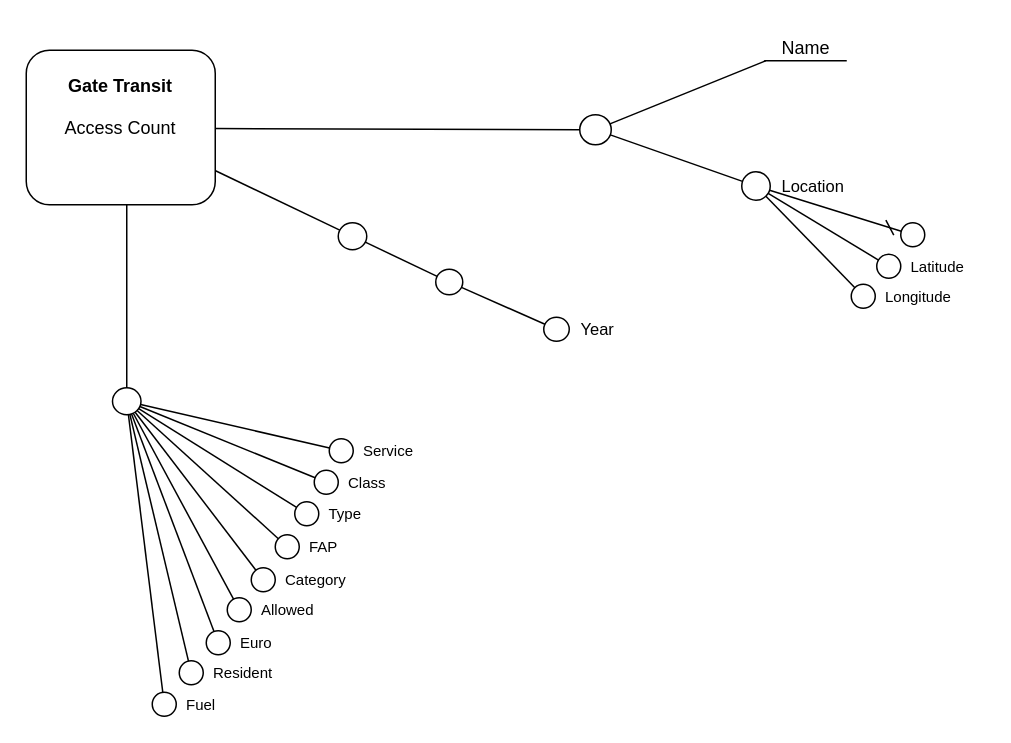
Some shapes in this 1011 by 743 pixel diagram are drawn without their labels. The centre of each missing label's shape, as x and y in pixels:
"Altitude" belongs at [912,234].
"Day" belongs at [352,235].
"Gate" belongs at [594,129].
"Month" belongs at [448,281].
"Vehicle" belongs at [126,400].
